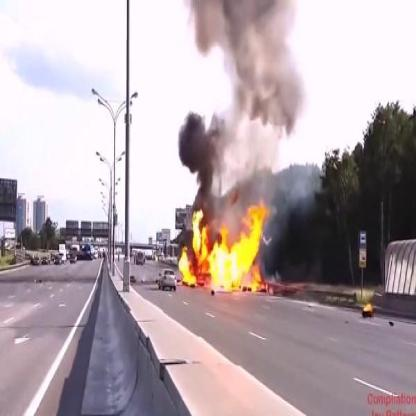fire: (178, 197, 273, 298)
